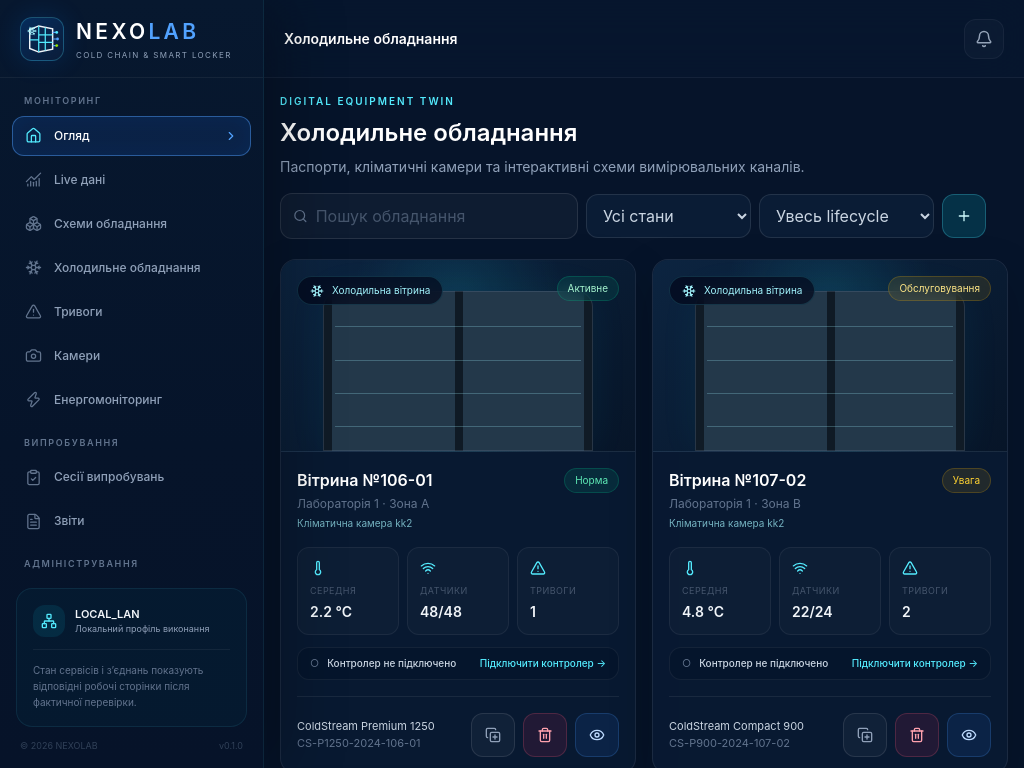
Test case: RefrigerationCatalogScreen › filters equipment by operational status
Expected: the heading "Вітрина №106-01" is shown, x1=297 y1=468 x2=432 y2=492
Select "Попередження" in the dropdown named "Фільтр за станом" at {"x": 668, "y": 216}, box x1=586 y1=194 x2=751 y2=238
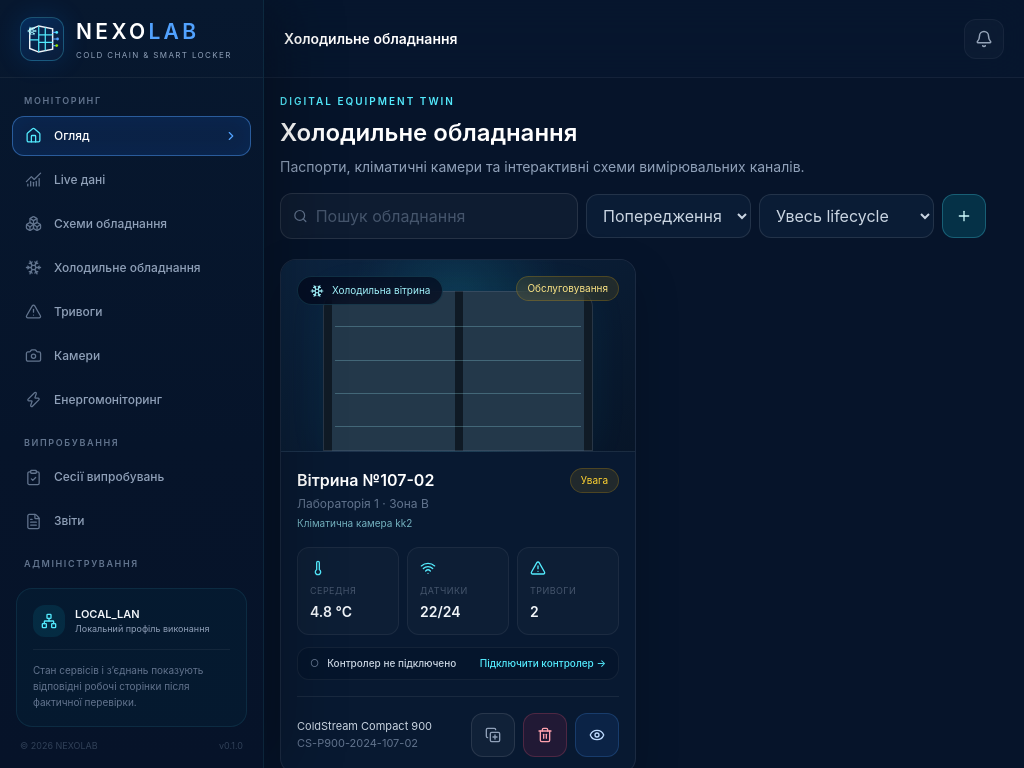
Expected: the heading "Вітрина №107-02" is shown, x1=297 y1=468 x2=434 y2=492
Now the heading "Вітрина №106-01" is gone
